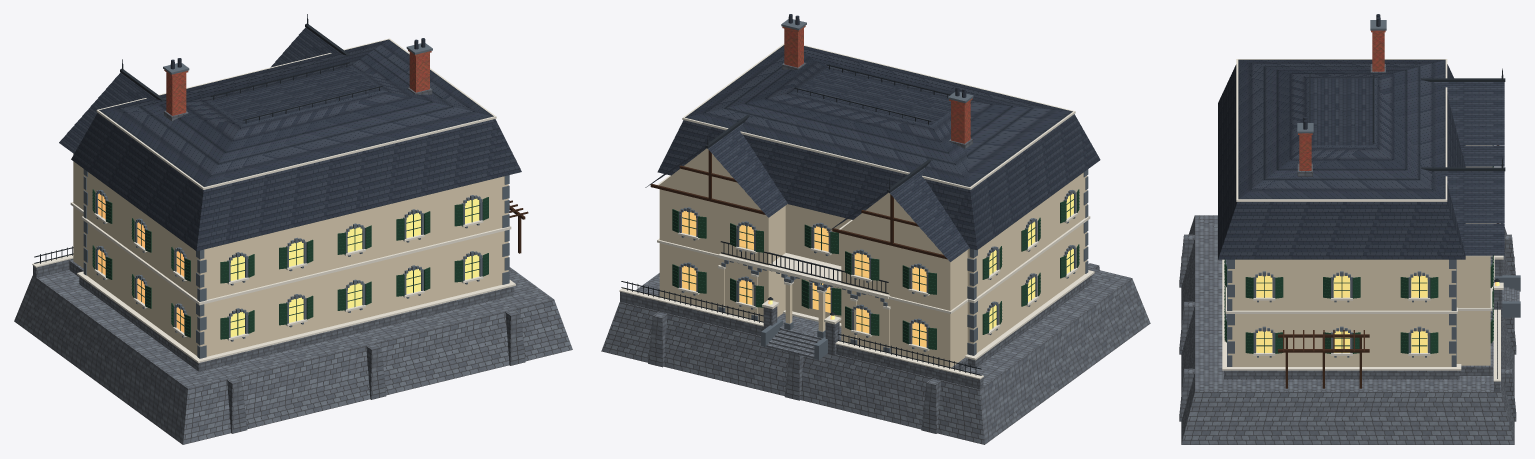
The model's file is fv_hht_10_hoang_hoa_tham_28_grand_mansard_pine_estate.glb.
3 views of the same model, side by side, from view 1: azimuth 30°, elevation 25°; view 2: azimuth 150°, elevation 25°; view 3: azimuth 270°, elevation 25° (orthographic).
Visible parts, largest first — view 1: Normandy_Brittany_Layered_Roof, Foundation_Skirt_Neg3p5m, Villa_Stucco_Walls, Molded_Cornices_And_Sills, PineGreen_Louvered_Shutters, Stone_Quoins_And_Arches, Warm_Night_Windows_20h00_Blend, Brick_Chimney_Stacks, Wrought_Iron_Balustrades_And_Gate; view 2: Normandy_Brittany_Layered_Roof, Foundation_Skirt_Neg3p5m, Villa_Stucco_Walls, Molded_Cornices_And_Sills, Stone_Quoins_And_Arches, PineGreen_Louvered_Shutters, Warm_Night_Windows_20h00_Blend, Wrought_Iron_Balustrades_And_Gate, Exposed_Timber_Trusses_And_Rafters, Brick_Chimney_Stacks, Roof_Ridges_Caps_And_Finials; view 3: Normandy_Brittany_Layered_Roof, Foundation_Skirt_Neg3p5m, Villa_Stucco_Walls, Molded_Cornices_And_Sills, Stone_Quoins_And_Arches, PineGreen_Louvered_Shutters, Warm_Night_Windows_20h00_Blend, Exposed_Timber_Trusses_And_Rafters, Brick_Chimney_Stacks, Roof_Ridges_Caps_And_Finials.
Part boxes in pixels (bbox=[...]): Normandy_Brittany_Layered_Roof: bbox=[59, 27, 521, 251]; Foundation_Skirt_Neg3p5m: bbox=[14, 87, 572, 444]; Villa_Stucco_Walls: bbox=[73, 153, 508, 356]; Molded_Cornices_And_Sills: bbox=[32, 38, 515, 363]; PineGreen_Louvered_Shutters: bbox=[92, 189, 488, 339]; Stone_Quoins_And_Arches: bbox=[83, 43, 509, 358]; Warm_Night_Windows_20h00_Blend: bbox=[98, 193, 479, 336]; Brick_Chimney_Stacks: bbox=[164, 50, 431, 115]; Wrought_Iron_Balustrades_And_Gate: bbox=[34, 62, 382, 263]; Normandy_Brittany_Layered_Roof: bbox=[647, 14, 1100, 261]; Foundation_Skirt_Neg3p5m: bbox=[601, 62, 1150, 444]; Villa_Stucco_Walls: bbox=[659, 148, 1087, 367]; Molded_Cornices_And_Sills: bbox=[619, 43, 1094, 379]; Stone_Quoins_And_Arches: bbox=[679, 19, 1088, 359]; PineGreen_Louvered_Shutters: bbox=[672, 189, 1079, 349]; Warm_Night_Windows_20h00_Blend: bbox=[682, 193, 1073, 347]; Wrought_Iron_Balustrades_And_Gate: bbox=[621, 64, 981, 375]; Exposed_Timber_Trusses_And_Rafters: bbox=[650, 150, 947, 259]; Brick_Chimney_Stacks: bbox=[782, 26, 972, 143]; Roof_Ridges_Caps_And_Finials: bbox=[645, 115, 931, 232]; Normandy_Brittany_Layered_Roof: bbox=[1218, 14, 1504, 259]; Foundation_Skirt_Neg3p5m: bbox=[1179, 64, 1519, 444]; Villa_Stucco_Walls: bbox=[1228, 145, 1490, 366]; Molded_Cornices_And_Sills: bbox=[1222, 59, 1503, 381]; Stone_Quoins_And_Arches: bbox=[1225, 20, 1520, 366]; PineGreen_Louvered_Shutters: bbox=[1224, 145, 1493, 353]; Warm_Night_Windows_20h00_Blend: bbox=[1256, 275, 1499, 352]; Exposed_Timber_Trusses_And_Rafters: bbox=[1278, 145, 1498, 388]; Brick_Chimney_Stacks: bbox=[1298, 30, 1385, 170]; Roof_Ridges_Caps_And_Finials: bbox=[1421, 68, 1505, 171].
Size of the model in its own units: 30.12 by 21 by 22.72.
Materials: 12 (3 with a texture image).
